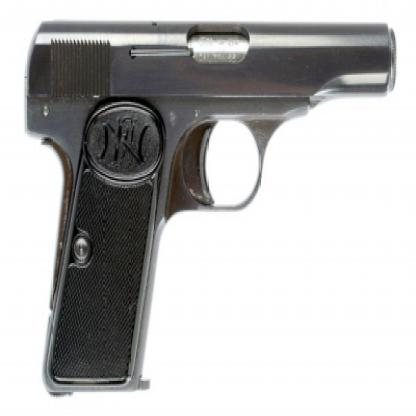Guns: (17, 14, 397, 397)
